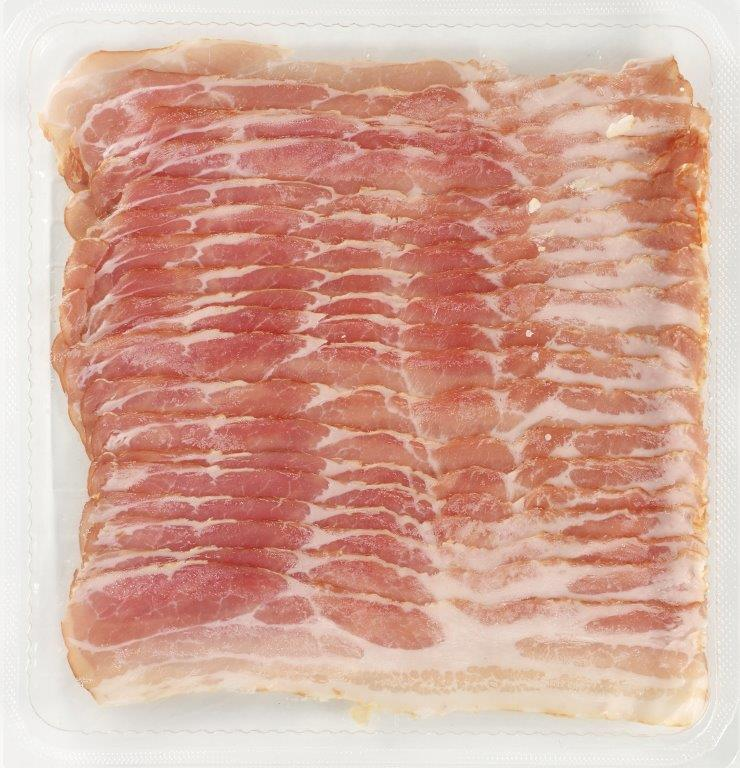bacon: (77, 69, 683, 664)
